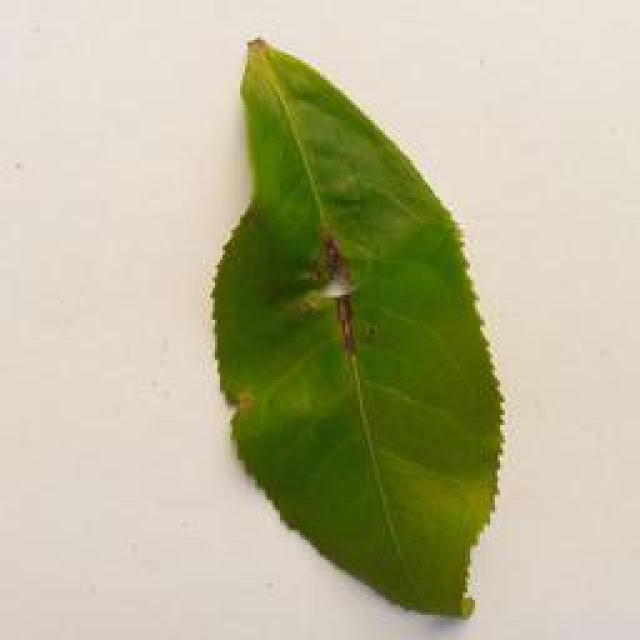Helopeltis: (214, 35, 518, 622)
